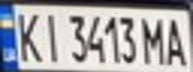1: (103, 12, 121, 64)
3: (63, 10, 87, 63), (118, 12, 142, 64)
4: (84, 11, 106, 63)
A: (160, 14, 193, 68)
I: (36, 8, 66, 63)
K: (9, 8, 45, 63)
M: (139, 12, 172, 66)
